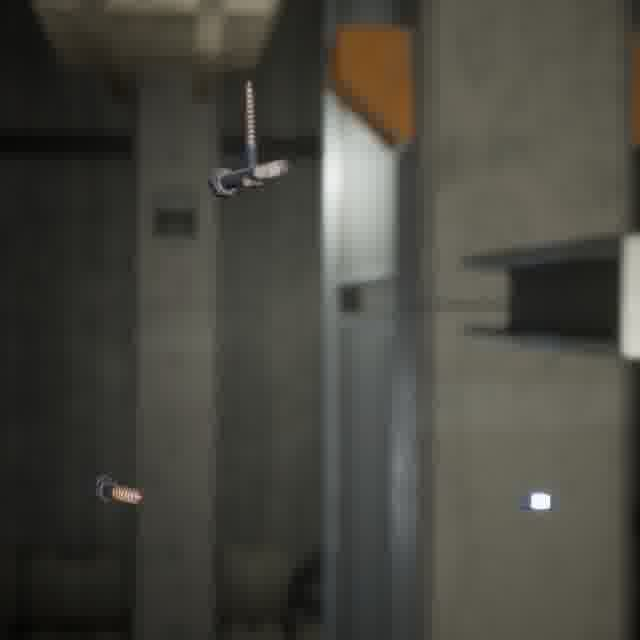bolt: (203, 154, 294, 201), (236, 76, 268, 191), (86, 469, 148, 508)
nut: (514, 487, 559, 514)
